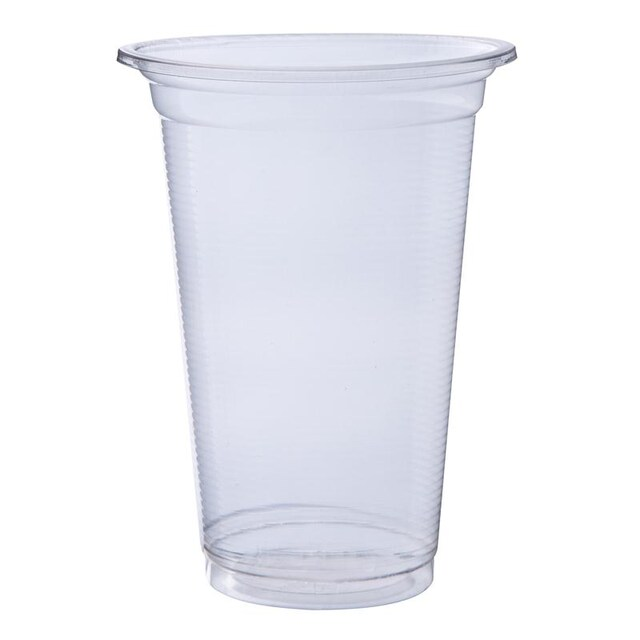plastic_bottle: (114, 24, 525, 616)
